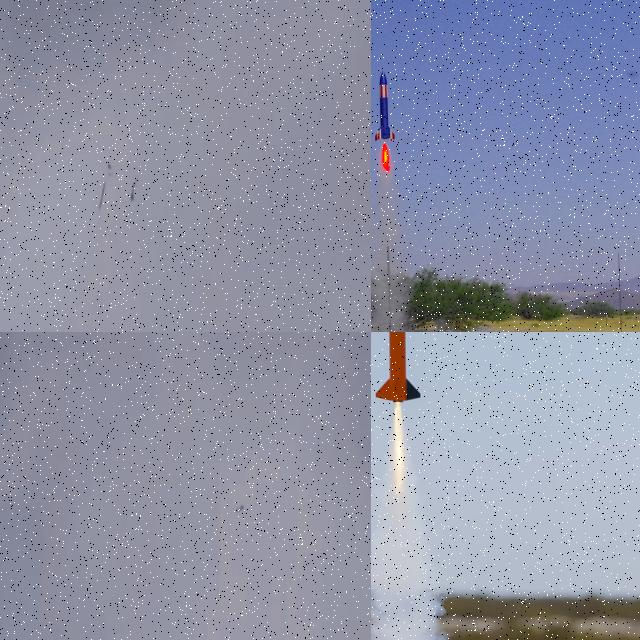Rocket: (374, 332, 424, 404), (375, 70, 395, 142), (130, 181, 135, 201), (237, 502, 244, 513)
